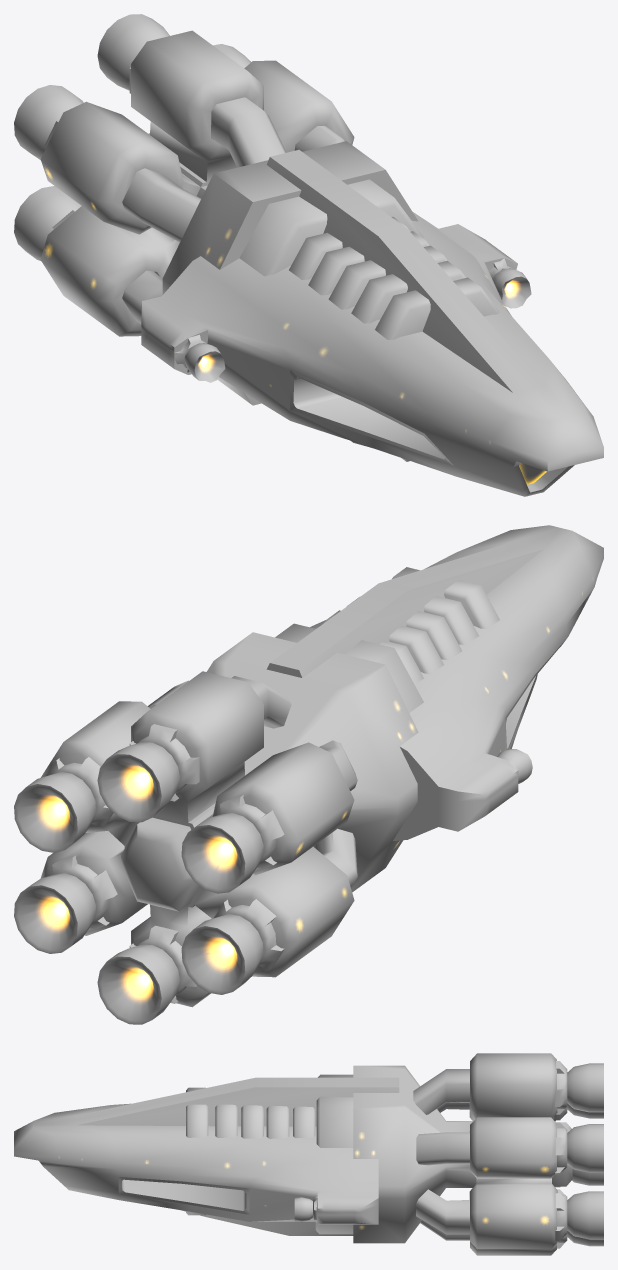
Rendered from _upiter.fbx.
The picture shows the model from 3 angles, top to bottom: view 1: azimuth 30°, elevation 25°; view 2: azimuth 150°, elevation 25°; view 3: azimuth 270°, elevation 25°; orthographic projection. The views are drawn at different scales.
Parts seen in each view (by area): view 1: Jupiter_LOD0; view 2: Jupiter_LOD0; view 3: Jupiter_LOD0.
Part boxes in pixels (x1,y1,x2,y2): Jupiter_LOD0: [14, 14, 603, 496]; Jupiter_LOD0: [14, 525, 603, 1024]; Jupiter_LOD0: [14, 1053, 603, 1255].
Size of what is drawn, in the model's own units: 15146 by 11963 by 34058.
